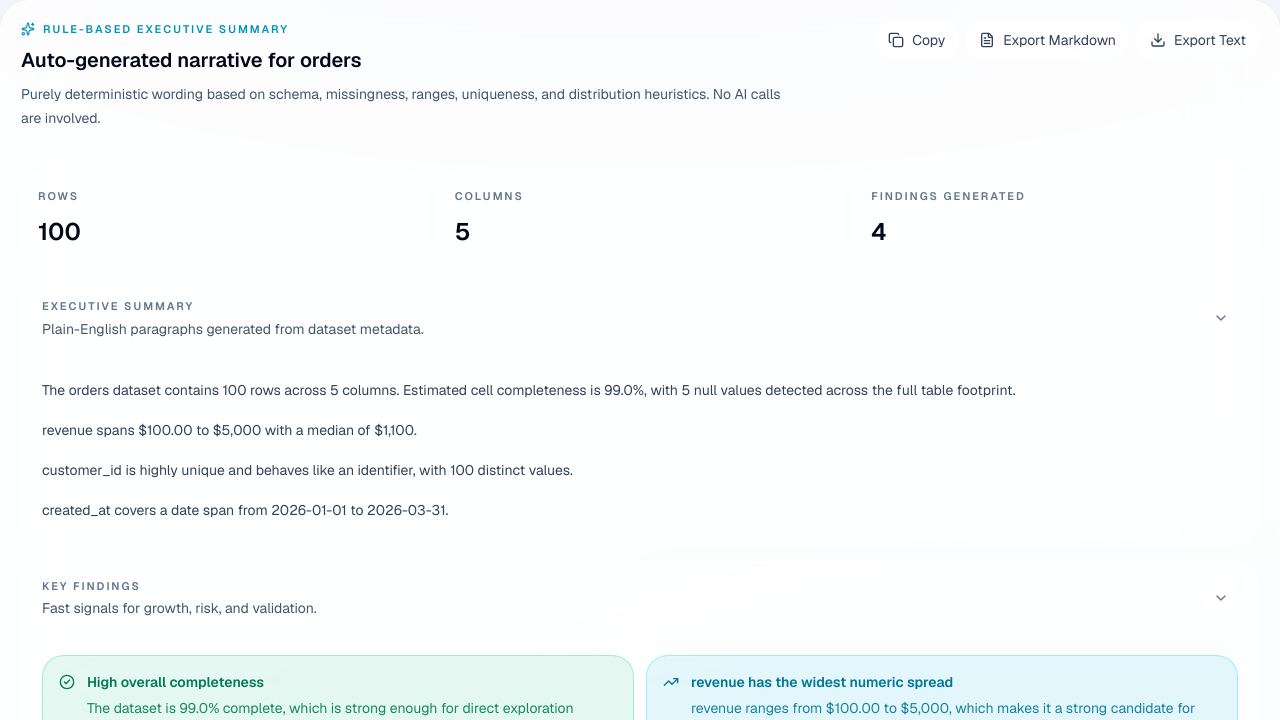
Scenario: DataSummarizer › exports the executive summary as Markdown
Step 1. Click the button "Export Markdown" → (1048, 40), box [966,21,1129,59]
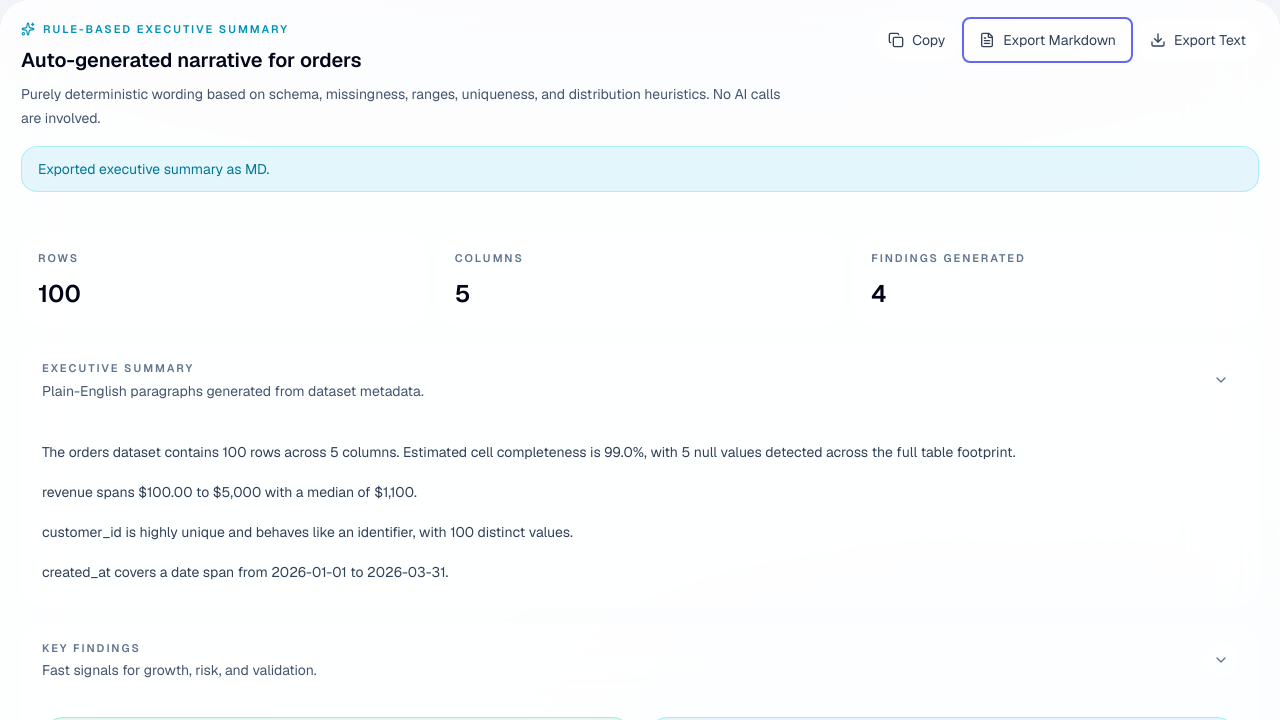
expect the text "Exported executive summary as MD." is shown: met, box [21,146,1259,192]
